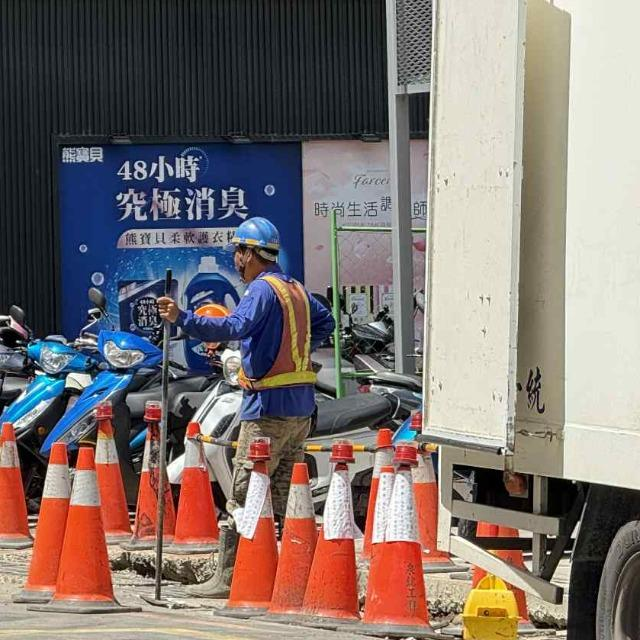Helmet: (224, 211, 281, 276)
Vest: (236, 273, 324, 399)
